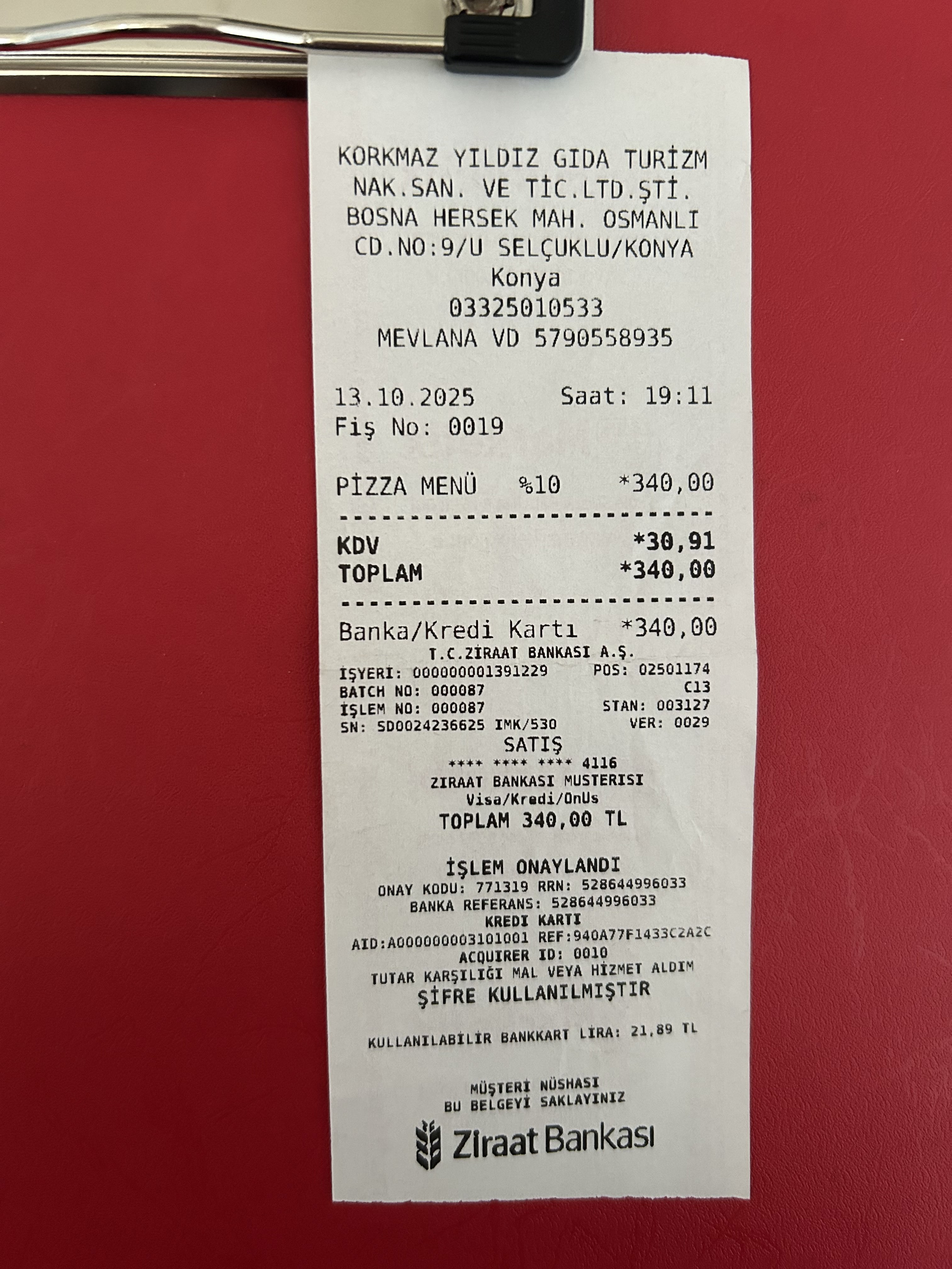date: (628, 555, 728, 589)
price: (325, 382, 485, 411)
workplace: (320, 128, 724, 263)
